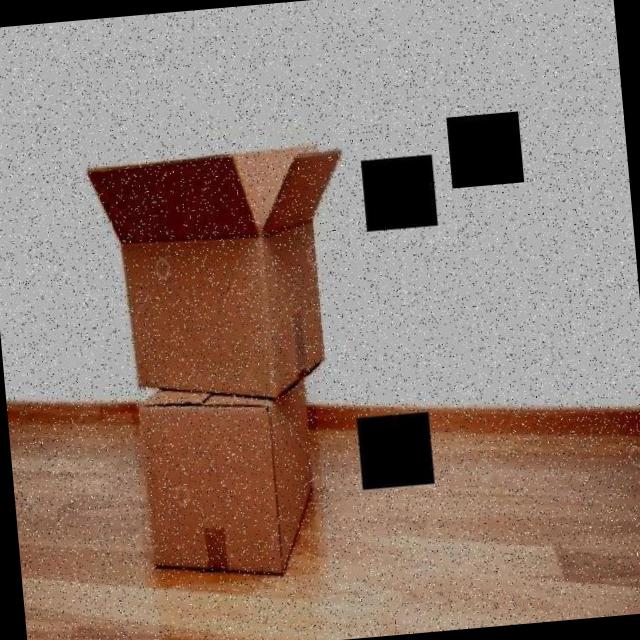box: (75, 122, 368, 416), (128, 366, 330, 588)
